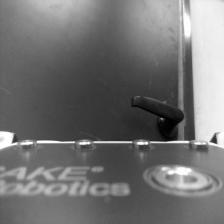Door Handle: (130, 94, 184, 138)
